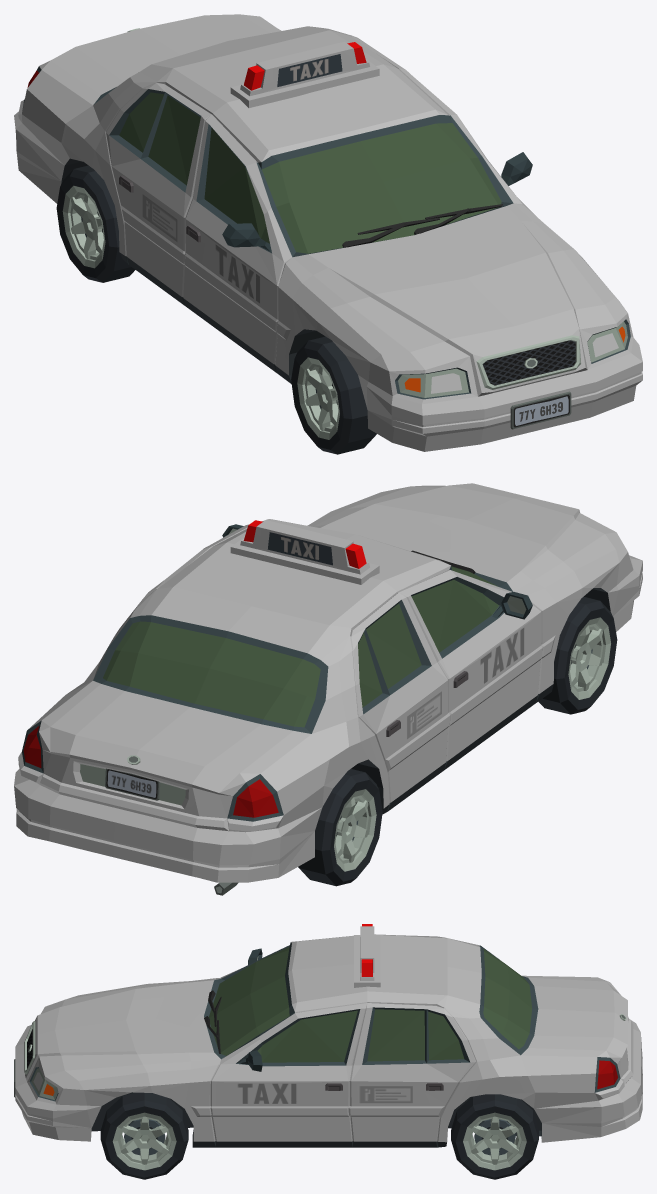
The model's file is Car 3.fbx.
The picture shows the model from 3 angles, top to bottom: view 1: azimuth 30°, elevation 25°; view 2: azimuth 150°, elevation 25°; view 3: azimuth 270°, elevation 25°; orthographic projection. The views are drawn at different scales.
Visible parts, largest first — view 1: SM_Veh_Car_Taxi_01, SM_Veh_Car_Taxi_Glass, SM_Veh_Car_Taxi_Wheel_fr, SM_Veh_Car_Taxi_Wheel_rr, SM_Veh_Car_Taxi_Plates; view 2: SM_Veh_Car_Taxi_01, SM_Veh_Car_Taxi_Glass, SM_Veh_Car_Taxi_Wheel_rr, SM_Veh_Car_Taxi_Wheel_fr, SM_Veh_Car_Taxi_Plates; view 3: SM_Veh_Car_Taxi_01, SM_Veh_Car_Taxi_Glass, SM_Veh_Car_Taxi_Wheel_fl, SM_Veh_Car_Taxi_Wheel_rl.
Part boxes in pixels (x1,y1,x2,y2): SM_Veh_Car_Taxi_01: (14,14,642,451); SM_Veh_Car_Taxi_Glass: (119,92,501,253); SM_Veh_Car_Taxi_Wheel_fr: (291,336,376,454); SM_Veh_Car_Taxi_Wheel_rr: (56,165,135,282); SM_Veh_Car_Taxi_Plates: (510,391,571,429); SM_Veh_Car_Taxi_01: (14,483,642,895); SM_Veh_Car_Taxi_Glass: (103,566,499,727); SM_Veh_Car_Taxi_Wheel_rr: (298,769,382,886); SM_Veh_Car_Taxi_Wheel_fr: (538,596,617,714); SM_Veh_Car_Taxi_Plates: (105,768,160,800); SM_Veh_Car_Taxi_01: (15,924,642,1147); SM_Veh_Car_Taxi_Glass: (208,947,532,1062); SM_Veh_Car_Taxi_Wheel_fl: (100,1092,188,1179); SM_Veh_Car_Taxi_Wheel_rl: (451,1094,538,1179).
Size of the model in its own units: 653 by 518 by 1557.
